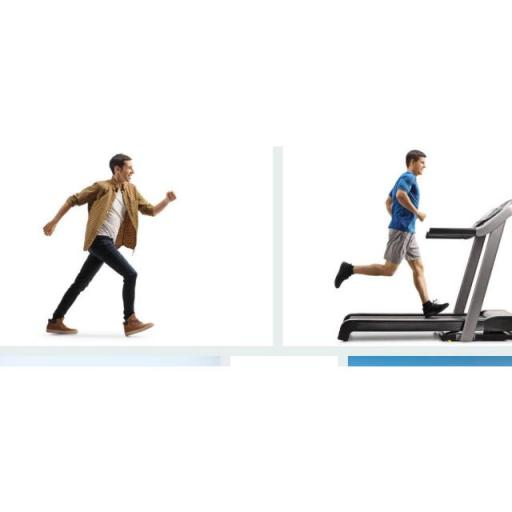Running: (39, 154, 176, 338), (332, 149, 451, 320)
